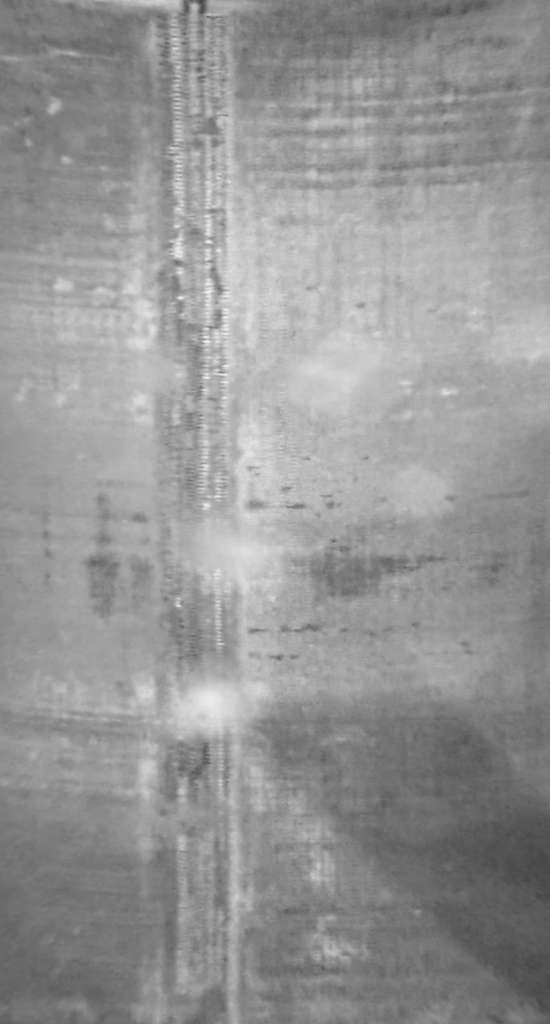splice: (143, 1, 242, 1024)
